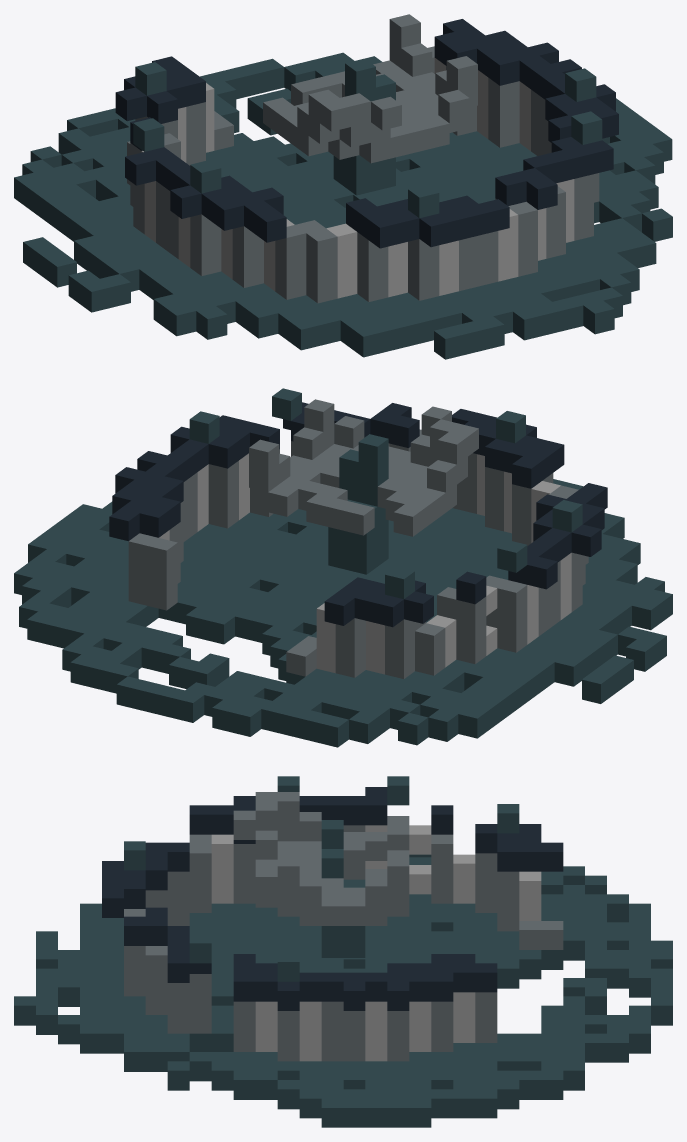
File: fountain_destroyed.obj
3 views of the same model, one above another, from view 1: azimuth 30°, elevation 25°; view 2: azimuth 150°, elevation 25°; view 3: azimuth 270°, elevation 25° (orthographic). The views are drawn at different scales.
Bounding box in the file's own units: 3 × 0.8 × 3.
1 material, 1 textured.
